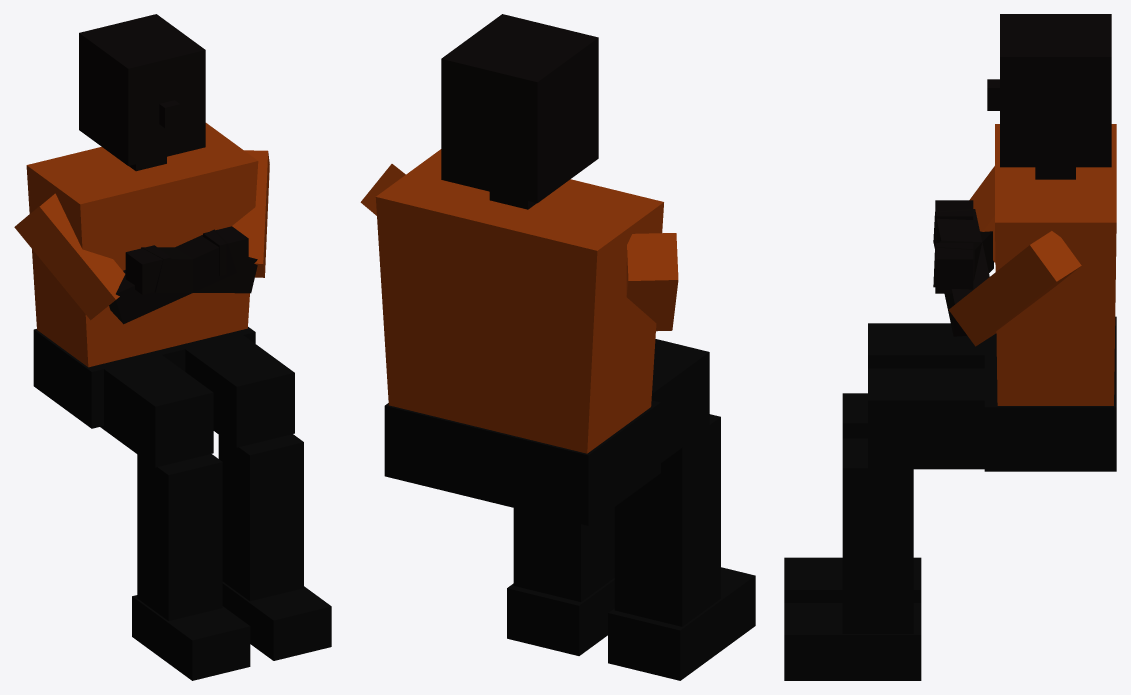
The model's file is espectador_C.obj.
3 renders of one model, left to right at view 1: azimuth 30°, elevation 25°; view 2: azimuth 150°, elevation 25°; view 3: azimuth 270°, elevation 25°, orthographic. The views are drawn at different scales.
Parts seen in each view (by area): view 1: Espectador_C_Cuerpo; view 2: Espectador_C_Cuerpo; view 3: Espectador_C_Cuerpo.
Boxes of the visible parts, x1,y1,x2,y2 form: Espectador_C_Cuerpo: (14,14,331,680); Espectador_C_Cuerpo: (360,14,755,680); Espectador_C_Cuerpo: (784,14,1116,680).
Bounding box in the file's own units: 0.66 × 1.32 × 0.655.
